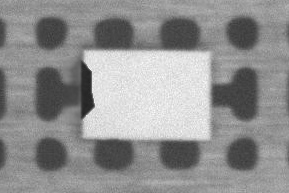DIE_BROKEN: (78, 61, 95, 120)
